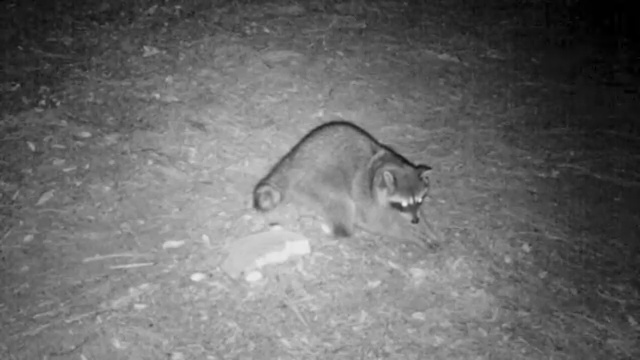raccoon: (251, 119, 453, 261)
